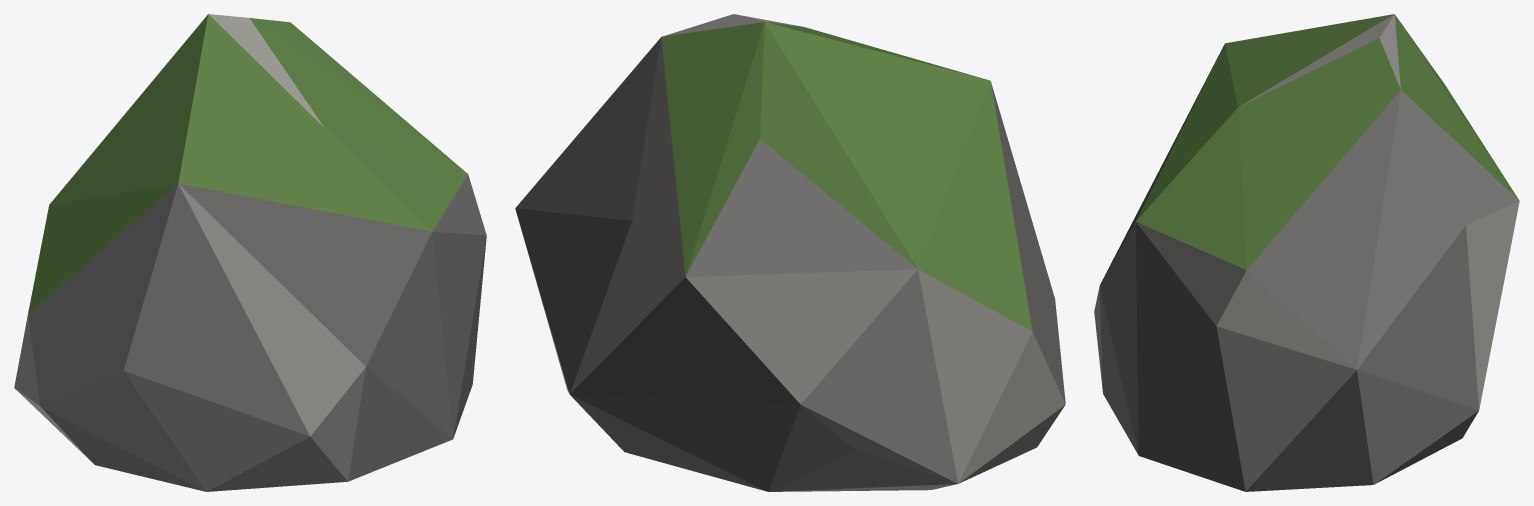
The model's file is stone_huge.glb.
3 views of the same model, side by side, from view 1: azimuth 30°, elevation 25°; view 2: azimuth 150°, elevation 25°; view 3: azimuth 270°, elevation 25° (orthographic). The views are drawn at different scales.
Parts seen in each view (by area): view 1: Stone_huge; view 2: Stone_huge; view 3: Stone_huge.
Boxes of the visible parts, <box> form: Stone_huge: <box>14,14,486,491</box>; Stone_huge: <box>515,14,1065,491</box>; Stone_huge: <box>1094,14,1519,491</box>.
Size of the model in its own units: 2.74 by 2.15 by 2.19.
